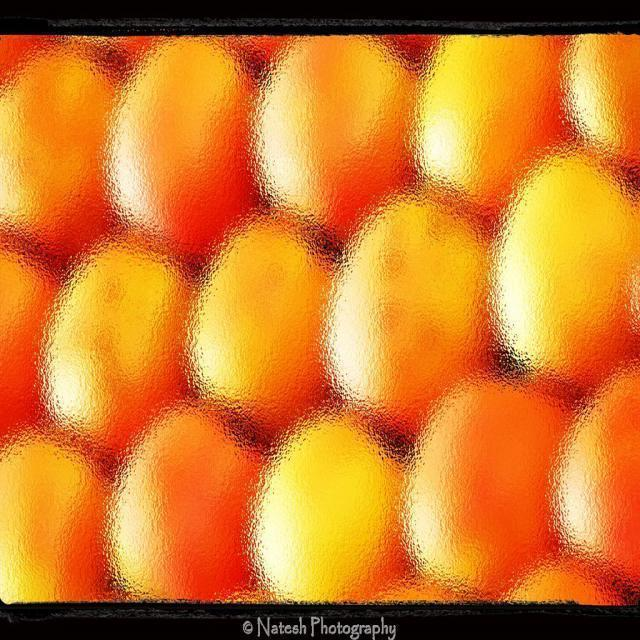Orange: (324, 197, 488, 436), (493, 149, 639, 383), (248, 42, 420, 240), (400, 382, 560, 594), (195, 213, 338, 430), (44, 238, 188, 452), (114, 41, 254, 258), (110, 403, 261, 598), (250, 408, 394, 608), (0, 29, 117, 264), (421, 32, 568, 200), (0, 430, 130, 608), (554, 359, 640, 583), (0, 232, 66, 439), (572, 38, 640, 164), (516, 565, 630, 604)
